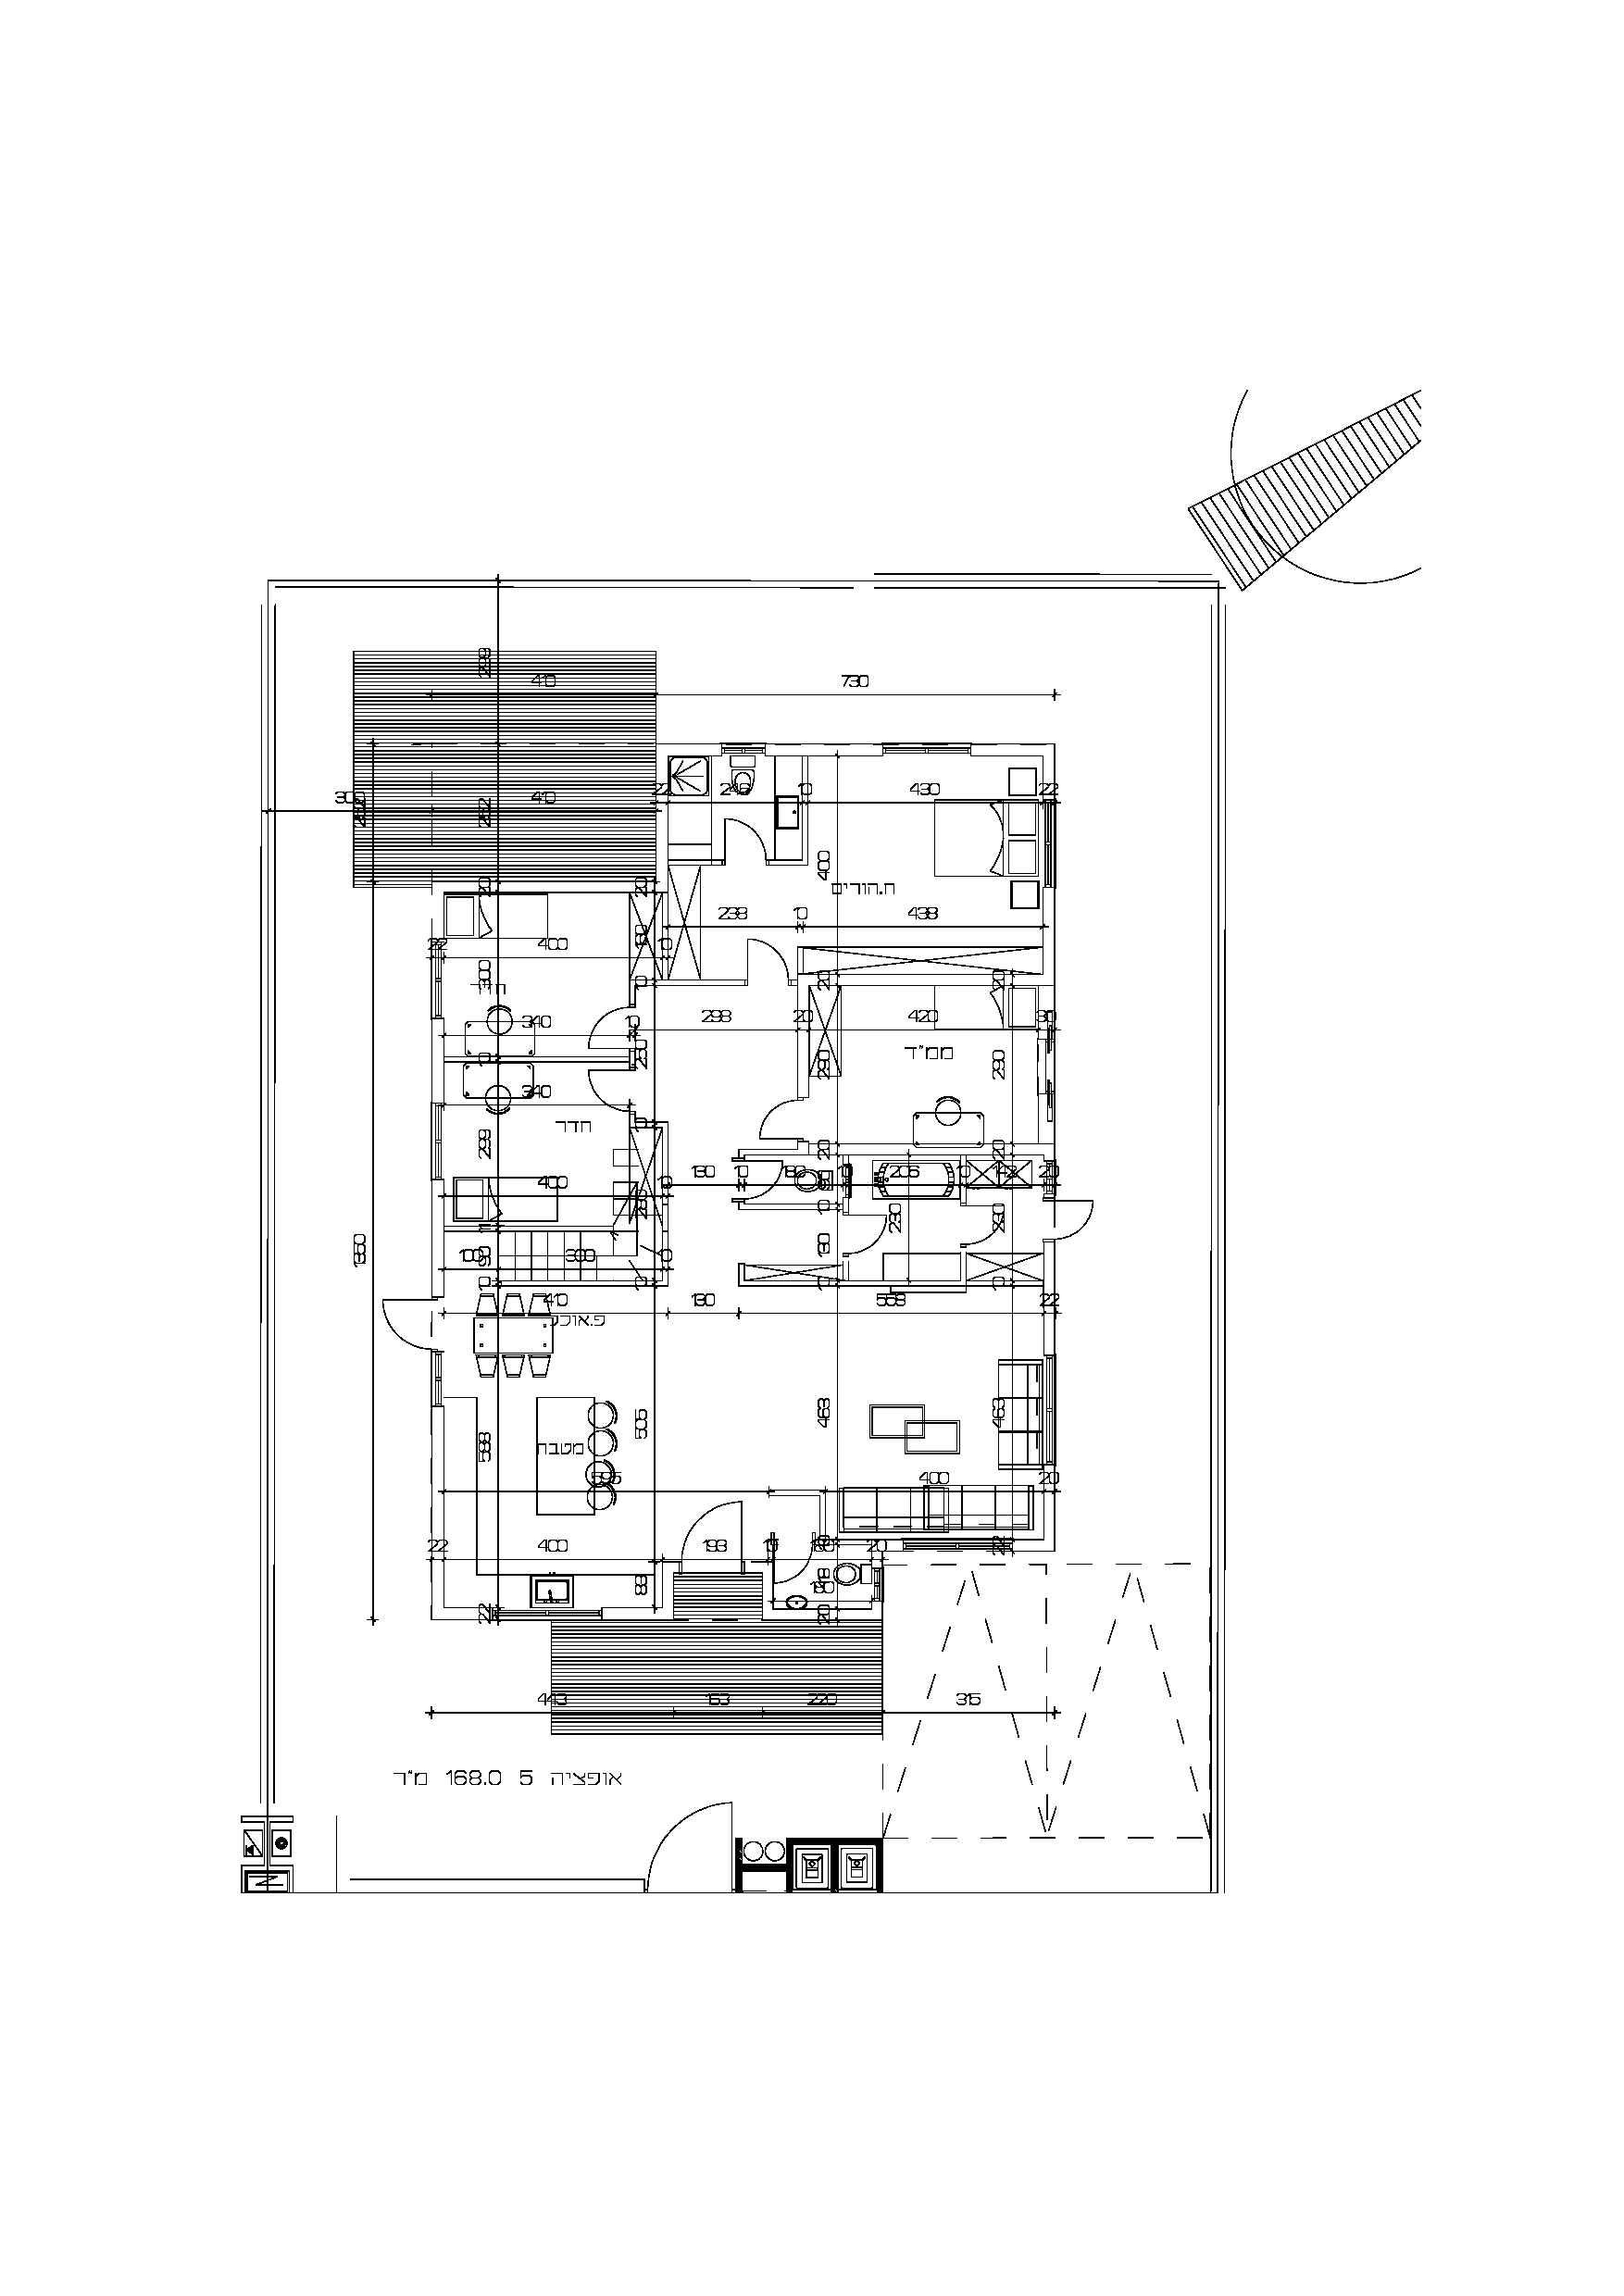door: (678, 1493, 749, 1578), (585, 1007, 649, 1059), (735, 935, 798, 987), (951, 1198, 1014, 1251), (1042, 1193, 1104, 1245), (582, 1068, 645, 1119), (754, 1098, 817, 1149), (835, 1210, 898, 1261), (768, 1527, 816, 1585), (719, 812, 773, 859)
window: (489, 1604, 605, 1623), (1040, 1358, 1058, 1467), (429, 936, 446, 1019), (882, 743, 974, 759), (1042, 798, 1058, 889), (429, 1101, 445, 1180), (722, 741, 766, 759), (431, 1349, 443, 1411)
